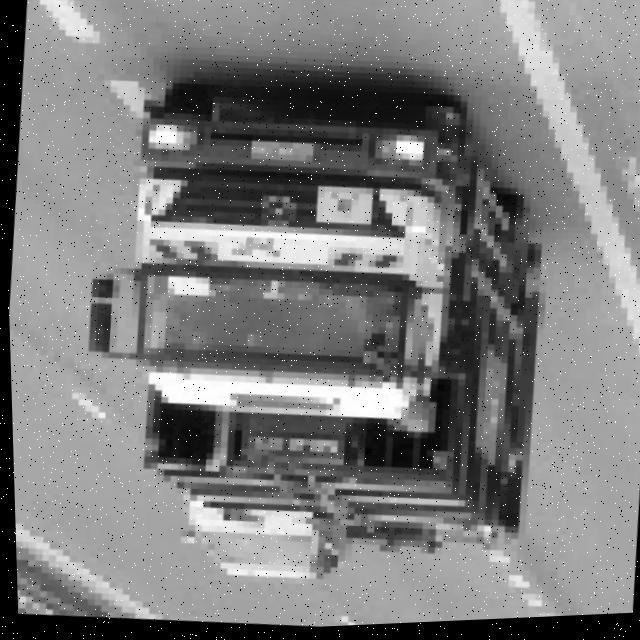truck: (65, 61, 501, 474)
